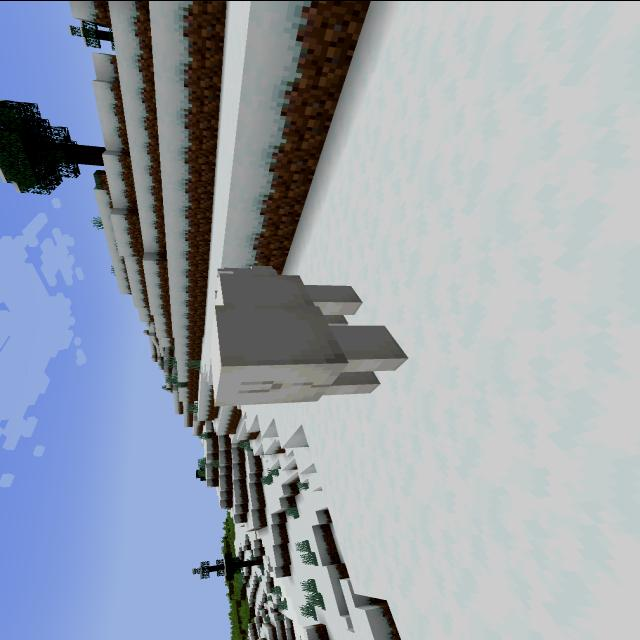Polar Bear: (195, 256, 432, 415)
